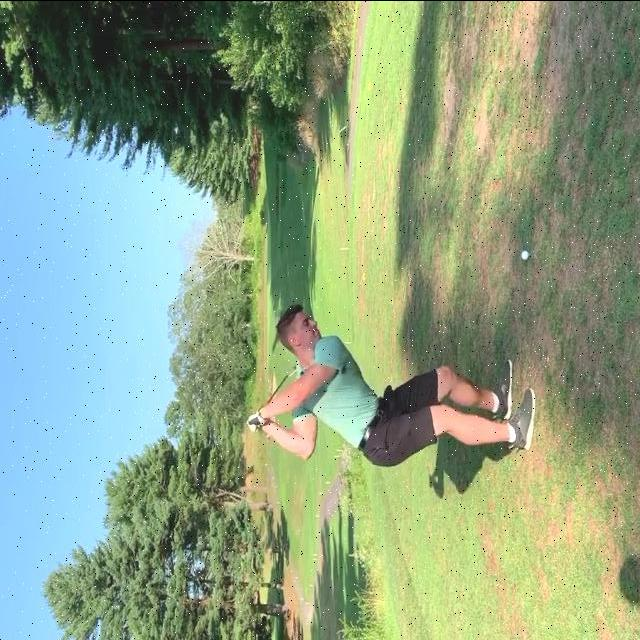golf ball: (521, 247, 530, 258)
golf club-handle: (247, 362, 297, 431)
